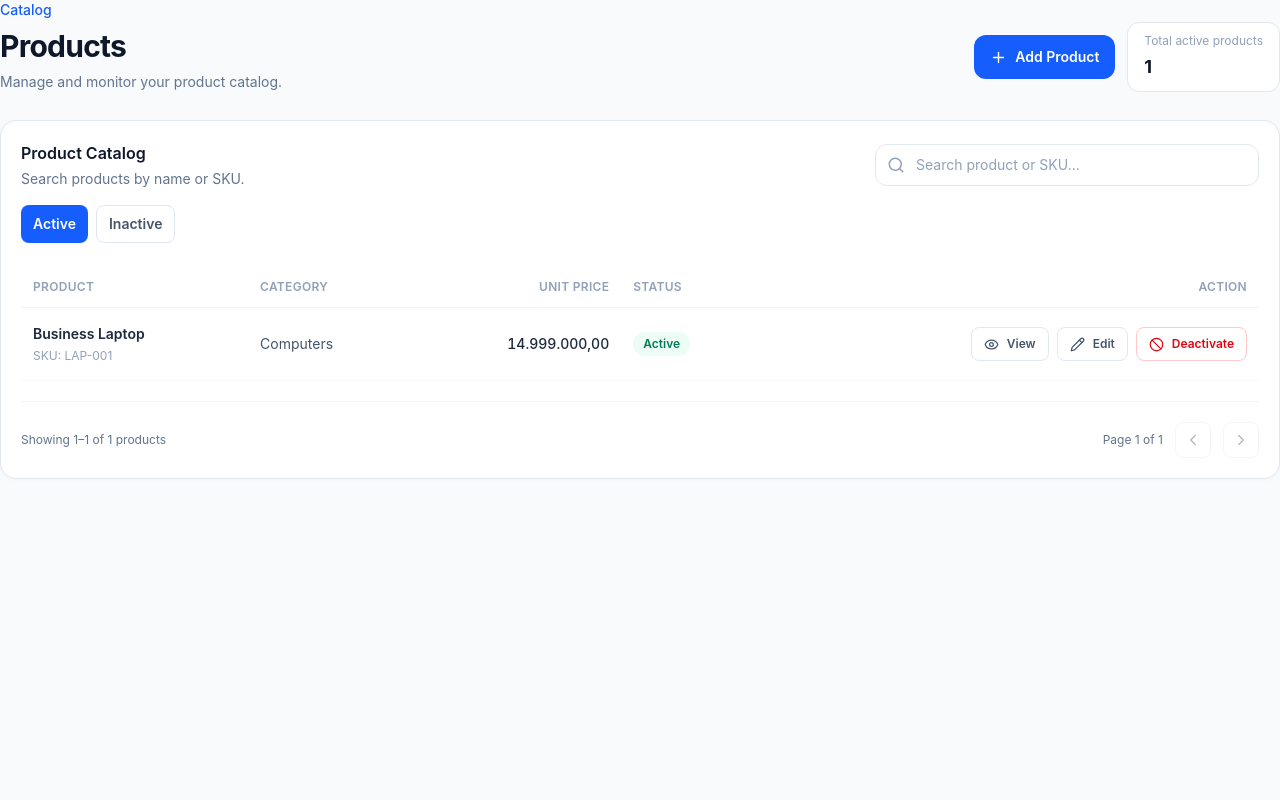
it: ProductsPage › edits an existing product
Check: the text "Business Laptop" is shown, box [33, 325, 145, 342]
Click the button with aria-label "Edit Business Laptop". click: click(1092, 344)
box: [1057, 327, 1128, 361]
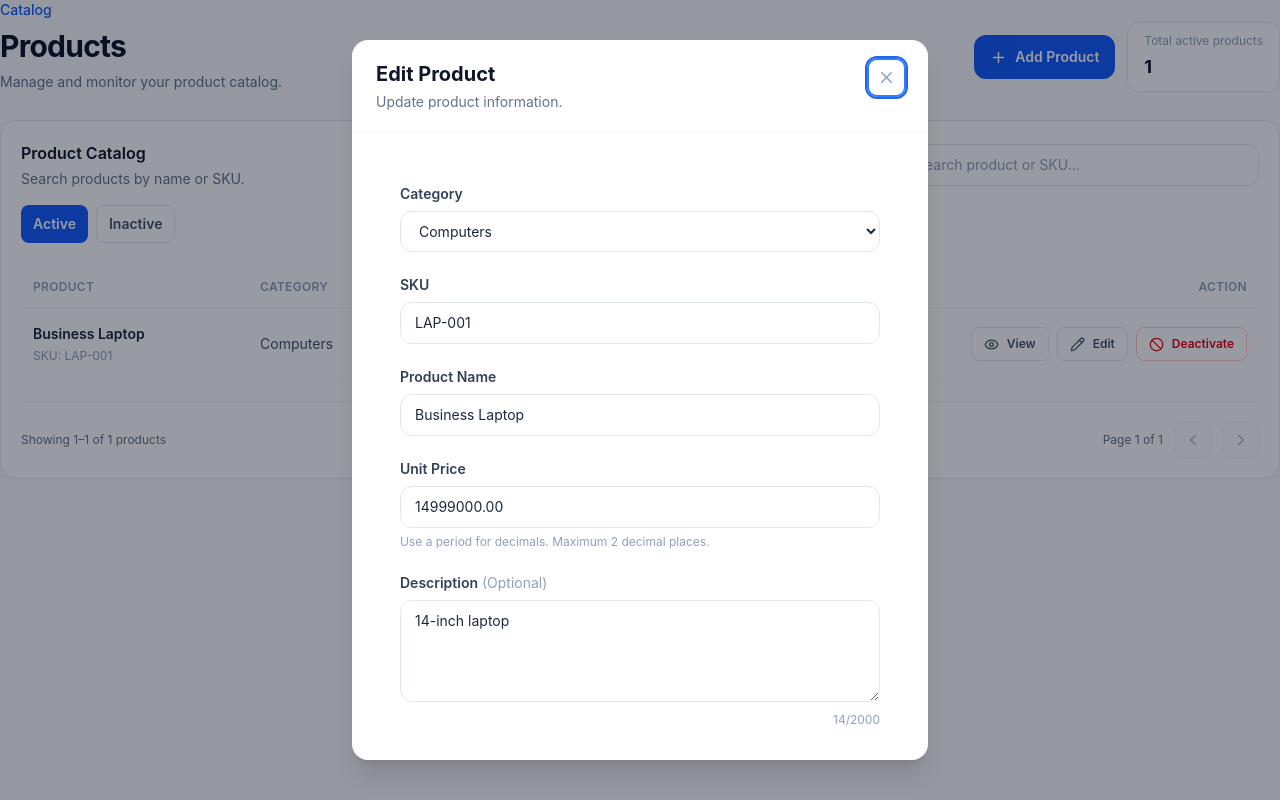
Replace the text in the field labelled "Product Name" with "Updated Business Laptop". click: (640, 415)
box: [400, 394, 880, 436]
(page scrolled)
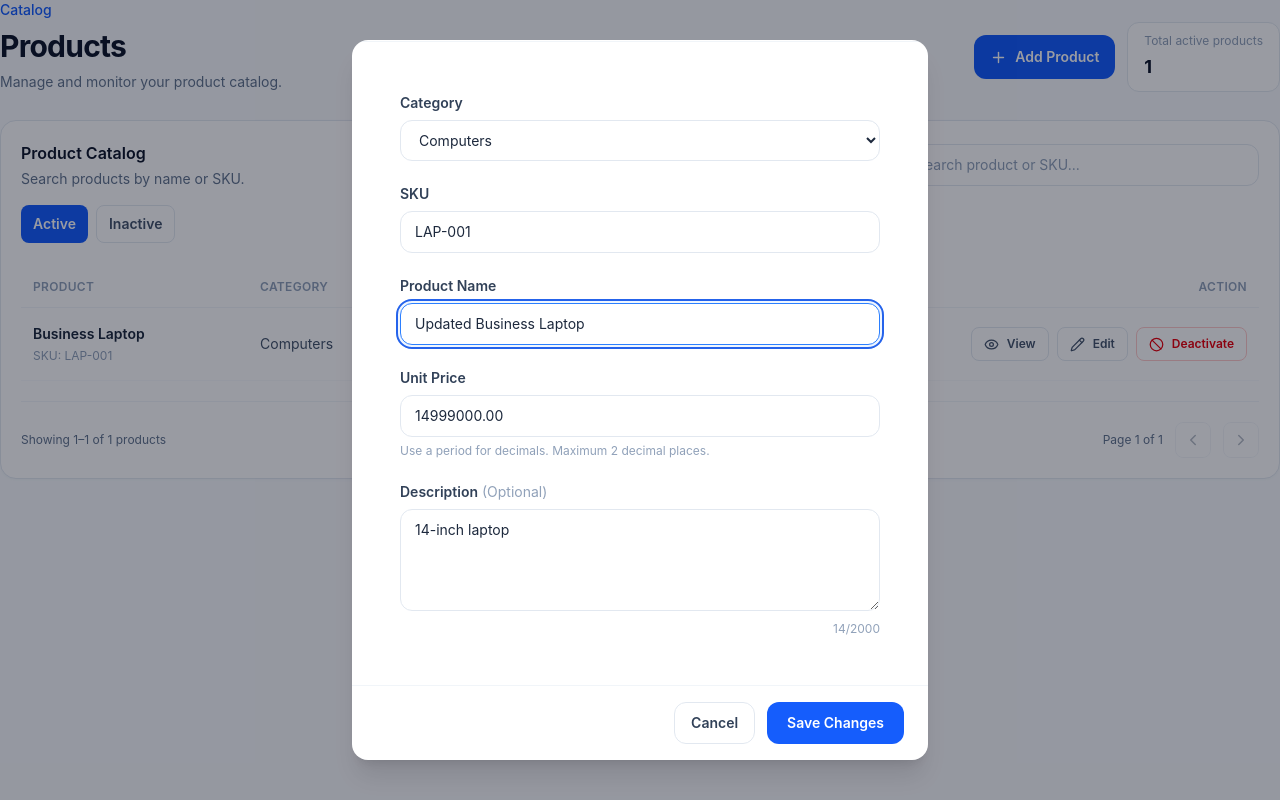
Click the button "Save Changes". click: click(836, 723)
box: [767, 702, 904, 744]
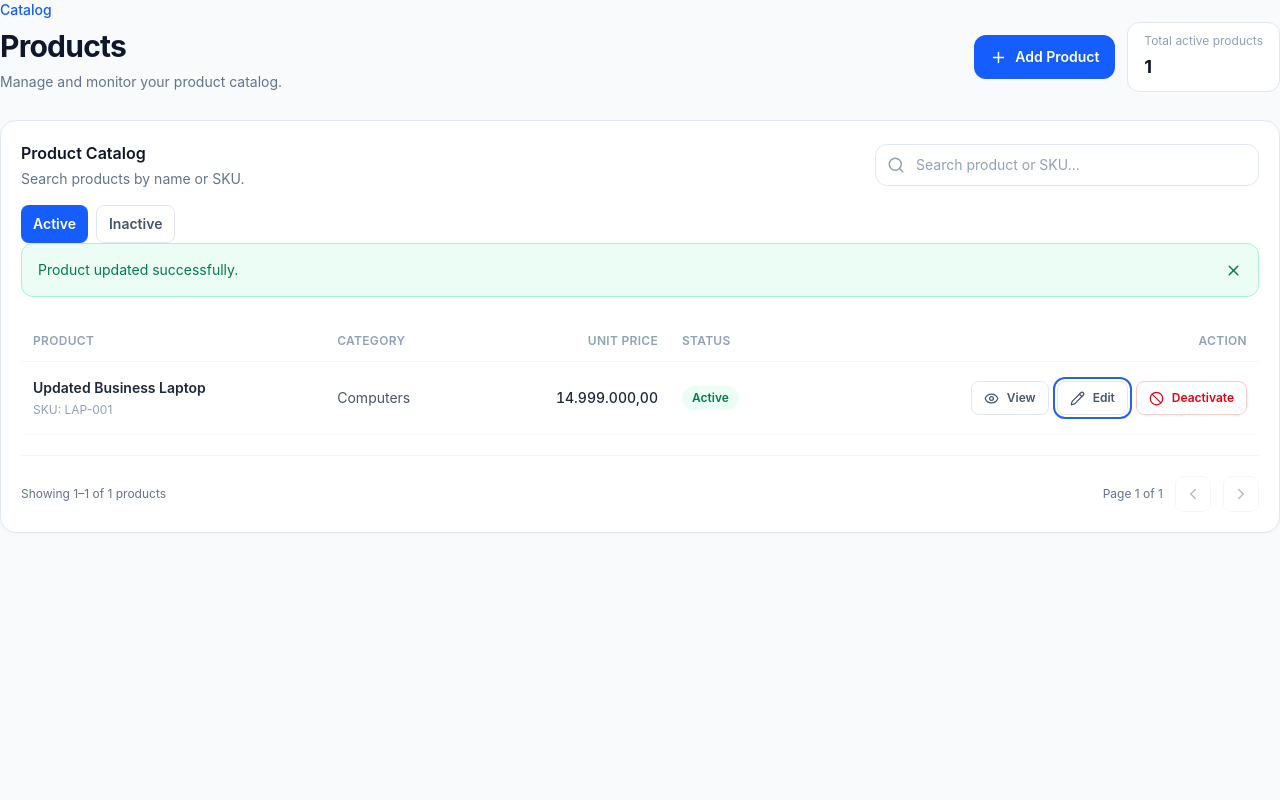
Check: the text "Updated Business Laptop" is shown, box [33, 379, 206, 396]
